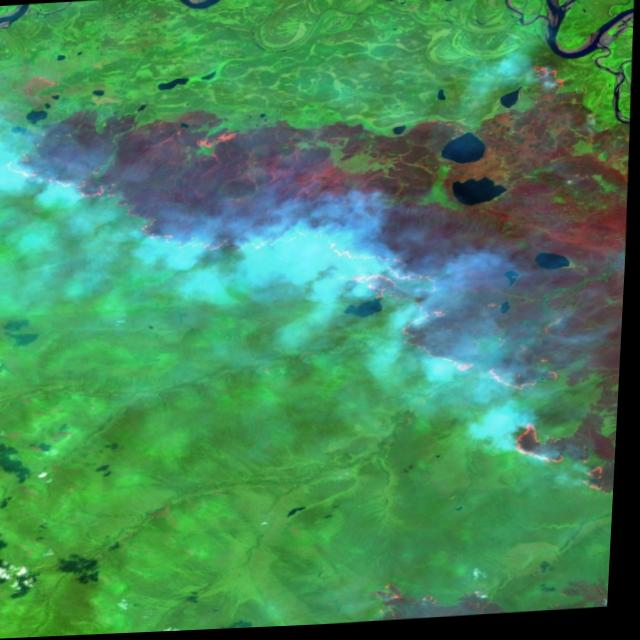fire: (0, 115, 634, 534), (516, 61, 579, 113)
